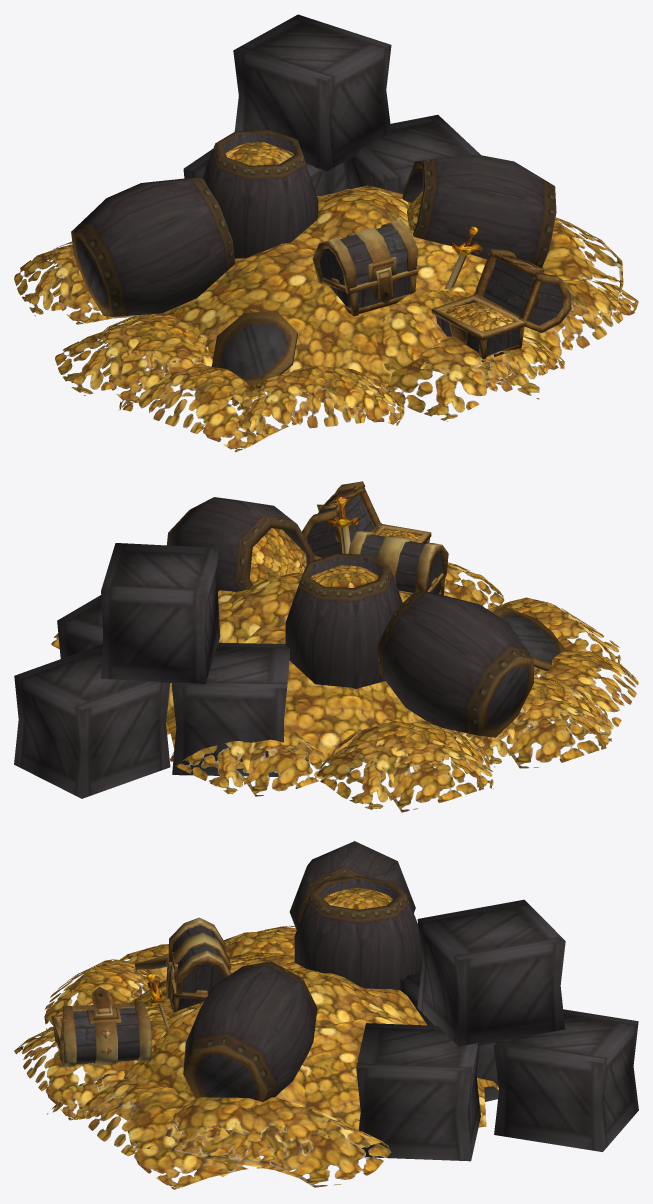
File: Battle05_Other_02.FBX
3 views of the same model, one above another, from view 1: azimuth 30°, elevation 25°; view 2: azimuth 150°, elevation 25°; view 3: azimuth 270°, elevation 25° (orthographic).
Parts seen in each view (by area): view 1: Battle05_Other_02; view 2: Battle05_Other_02; view 3: Battle05_Other_02.
Part boxes in pixels (<box>): Battle05_Other_02: <box>14,14,638,452</box>; Battle05_Other_02: <box>14,481,638,812</box>; Battle05_Other_02: <box>14,841,638,1189</box>.
Bounding box in the file's own units: 6.19 × 2.1 × 6.34.
